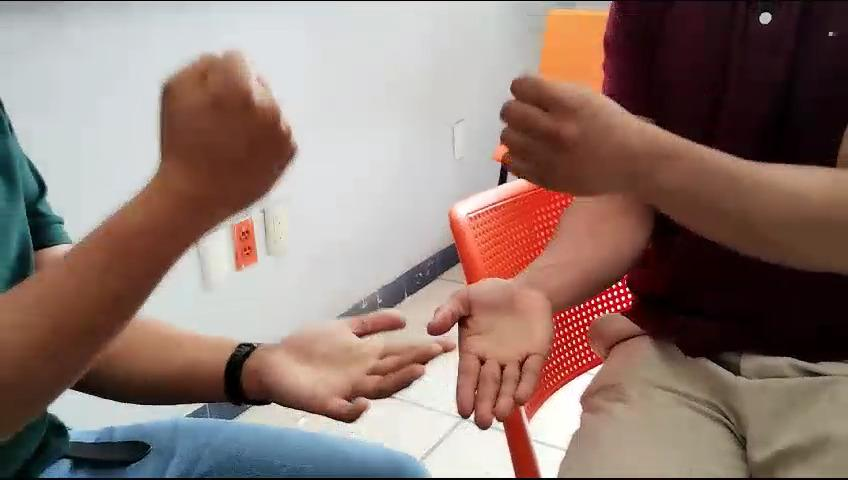Stone: (466, 28, 716, 233), (138, 47, 348, 239)
